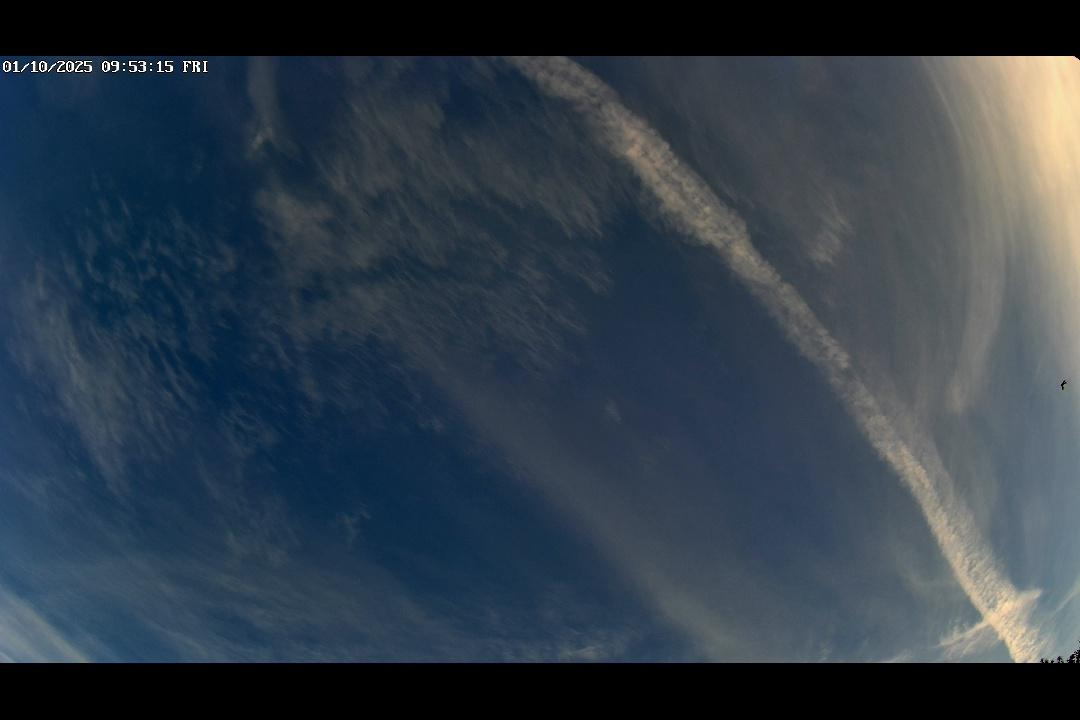WildLife: (1055, 375, 1072, 395)
